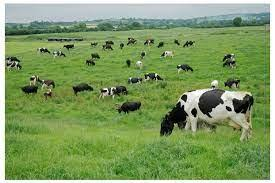cow: (160, 89, 253, 142), (118, 100, 143, 113), (73, 83, 94, 94), (102, 86, 119, 99), (223, 78, 242, 89), (178, 64, 196, 74), (19, 85, 39, 94), (145, 73, 163, 82), (4, 62, 23, 70), (221, 59, 237, 68), (39, 79, 54, 88), (161, 50, 175, 59), (52, 50, 67, 58), (182, 41, 196, 49), (127, 77, 143, 84), (40, 91, 53, 99), (36, 47, 52, 53), (117, 86, 129, 94), (222, 54, 236, 60), (212, 79, 221, 88), (30, 75, 39, 84), (156, 41, 167, 48), (6, 56, 20, 61), (87, 59, 97, 66), (102, 45, 113, 51), (144, 39, 155, 45), (173, 39, 182, 46), (90, 53, 100, 59), (89, 42, 100, 47), (63, 45, 76, 49), (126, 60, 133, 67), (136, 61, 144, 67), (126, 41, 137, 45), (140, 52, 147, 58), (120, 43, 126, 49), (105, 40, 113, 44)
